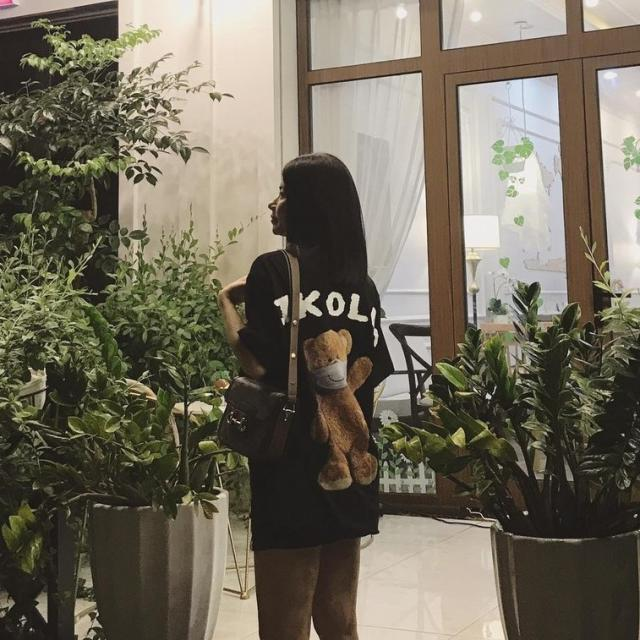Shirt: (237, 248, 395, 548)
